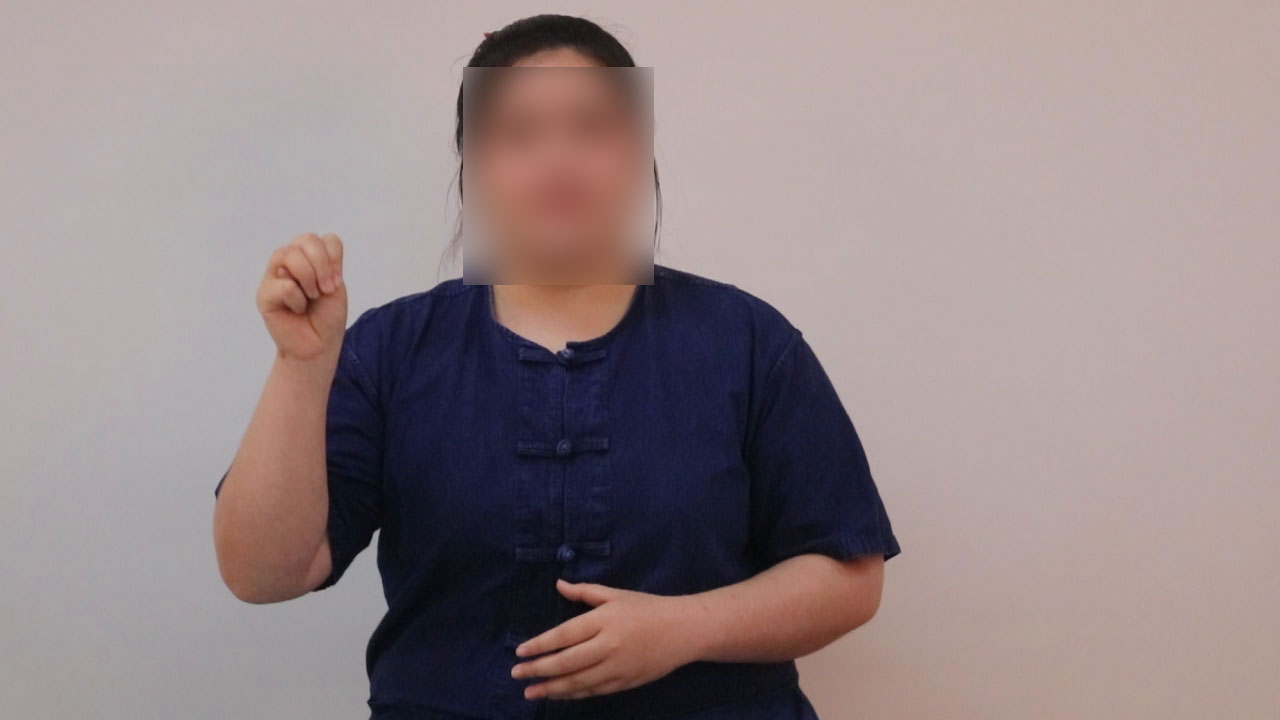mor: (244, 210, 364, 362)
